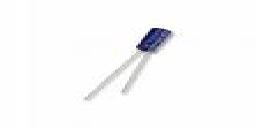Electrolytic-capacitor: (84, 26, 174, 105)
